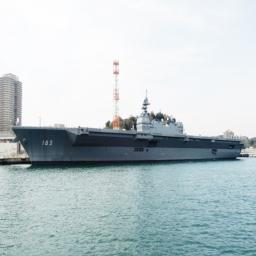Portanaves: (11, 90, 249, 168)
